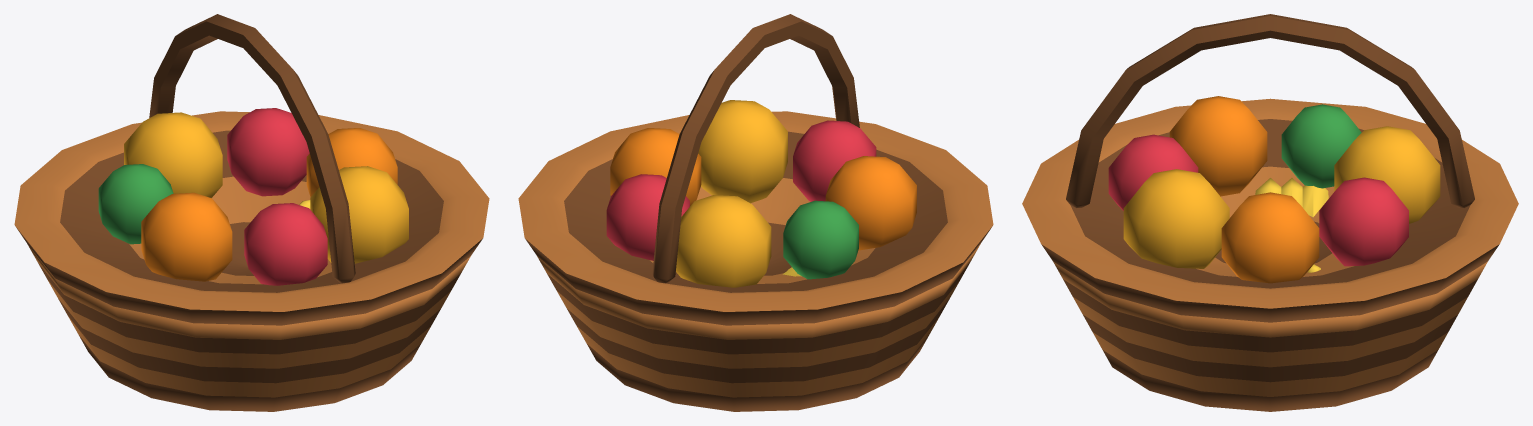
The model's file is W1_FruitBasket.fbx.
3 renders of one model, left to right at view 1: azimuth 30°, elevation 25°; view 2: azimuth 150°, elevation 25°; view 3: azimuth 270°, elevation 25°, orthographic. The views are drawn at different scales.
Visible parts, largest first — view 1: W1_FruitBasket; view 2: W1_FruitBasket; view 3: W1_FruitBasket.
Boxes of the visible parts, x1,y1,x2,y2 form: W1_FruitBasket: [14, 14, 489, 411]; W1_FruitBasket: [518, 14, 993, 411]; W1_FruitBasket: [1022, 14, 1518, 411].
Bounding box in the file's own units: 1.16 × 0.8385 × 1.16.
